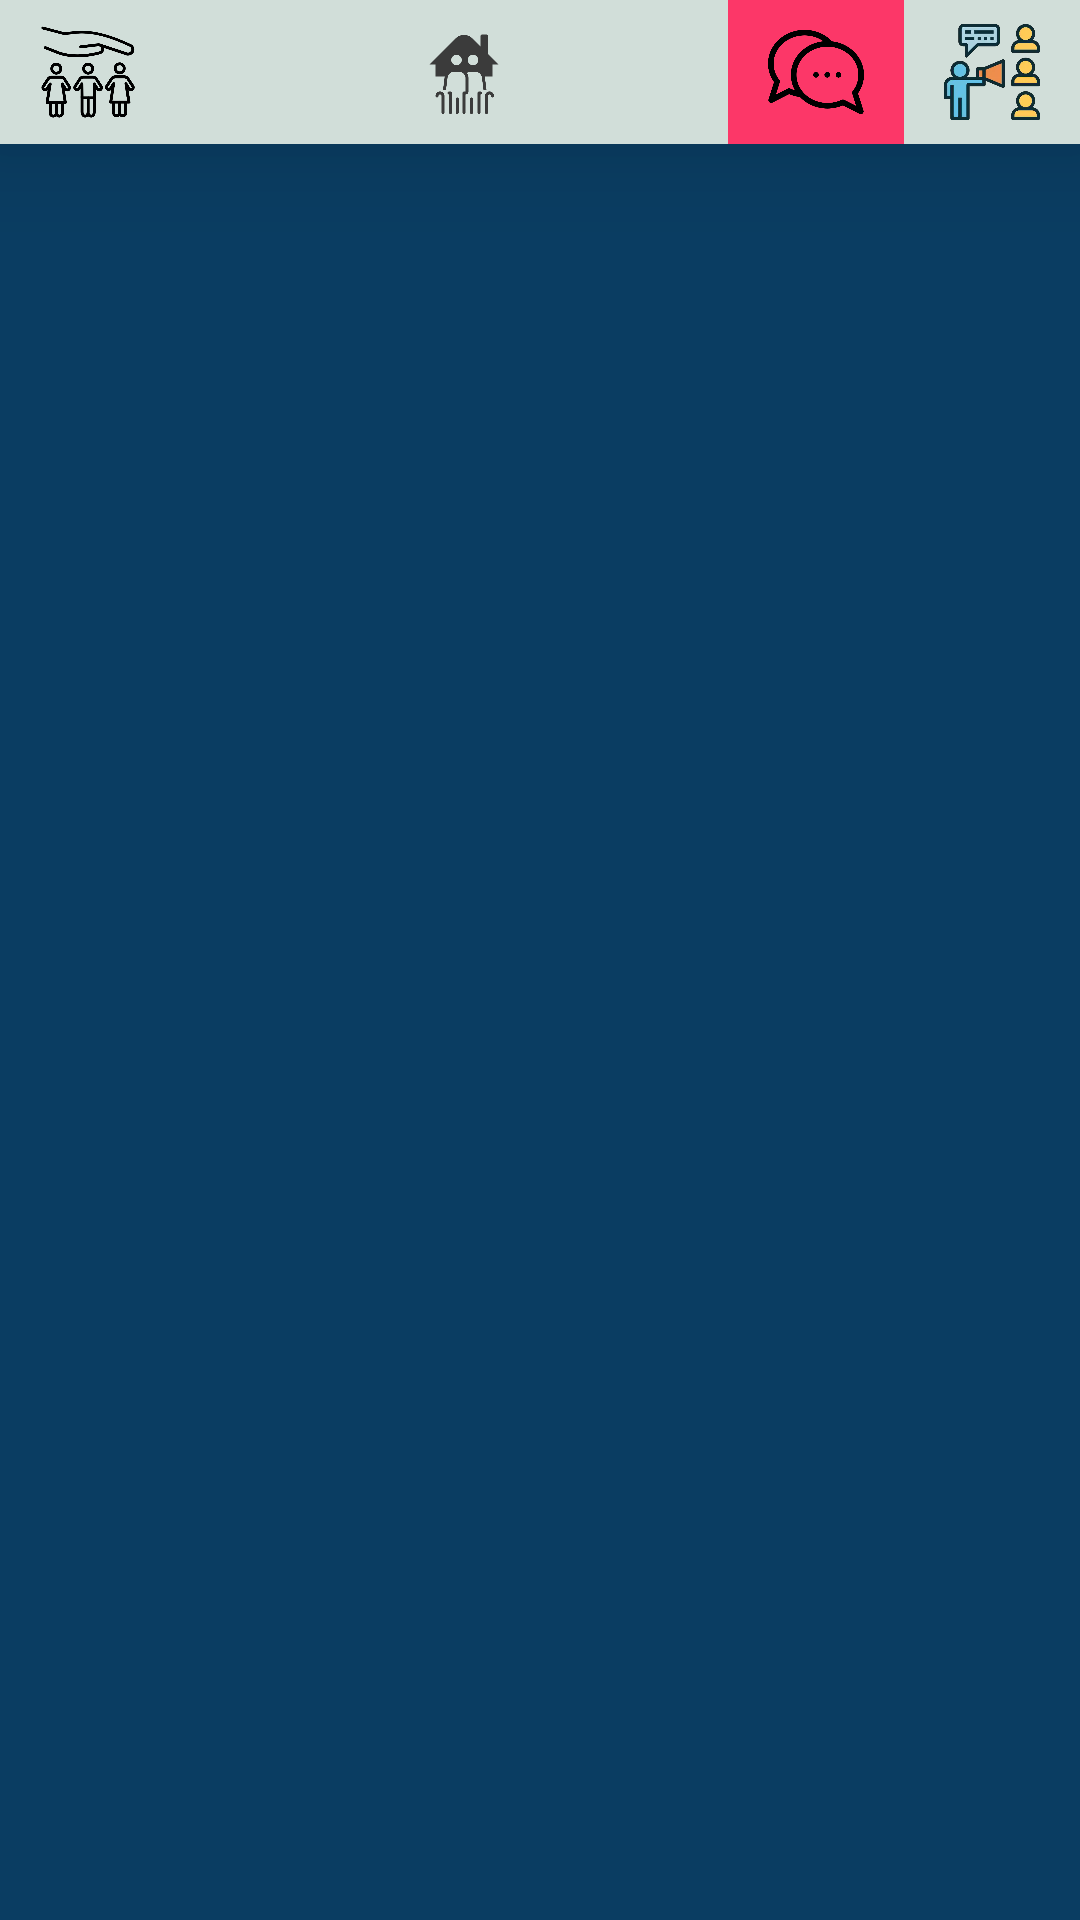

Where to tap for icons on this 1080w x 1920h app screen, as [x,y]:
announcement: [992,72]
bubble chat: [816,72]
oldage: [464,74]
orphan: [88,72]
